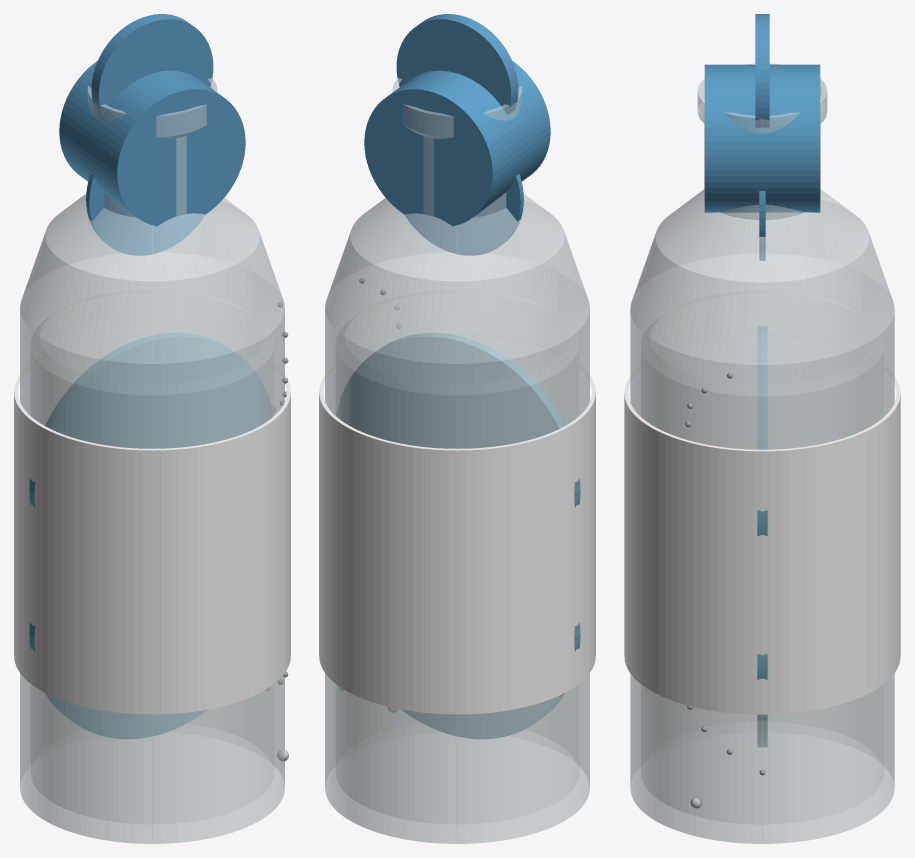
Rendered from botella_vidrio.glb.
3 views of the same model, side by side, from view 1: azimuth 30°, elevation 25°; view 2: azimuth 150°, elevation 25°; view 3: azimuth 270°, elevation 25° (orthographic).
Visible parts, largest first — view 1: vidrio_3, vidrio_0, vidrio_1, vidrio_2; view 2: vidrio_3, vidrio_0, vidrio_1, vidrio_2; view 3: vidrio_0, vidrio_3, vidrio_1, vidrio_2.
Boxes of the visible parts, bbox=[...] form: vidrio_3: bbox=[14, 333, 290, 738]; vidrio_0: bbox=[20, 78, 284, 843]; vidrio_1: bbox=[31, 289, 273, 824]; vidrio_2: bbox=[59, 14, 245, 255]; vidrio_3: bbox=[319, 333, 595, 738]; vidrio_0: bbox=[325, 78, 589, 843]; vidrio_1: bbox=[336, 289, 578, 824]; vidrio_2: bbox=[364, 14, 550, 255]; vidrio_0: bbox=[630, 63, 894, 843]; vidrio_3: bbox=[624, 326, 900, 746]; vidrio_1: bbox=[641, 291, 883, 824]; vidrio_2: bbox=[704, 14, 820, 260].
Size of the model in its own units: 4.2 by 12.83 by 4.18.
Materials: 6 (1 with a texture image).
